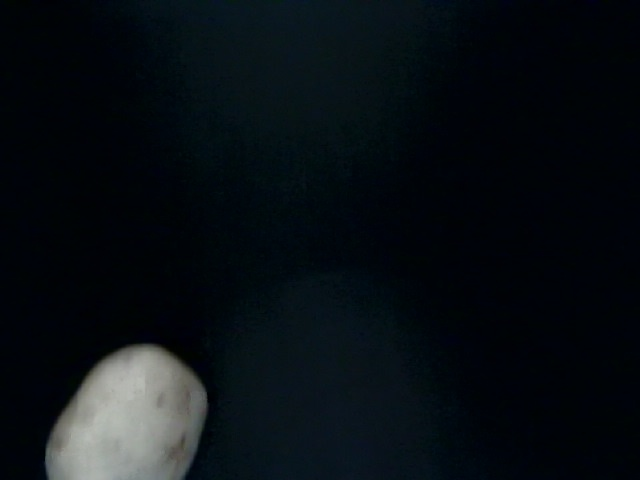QTLJ: (40, 398, 221, 480)
